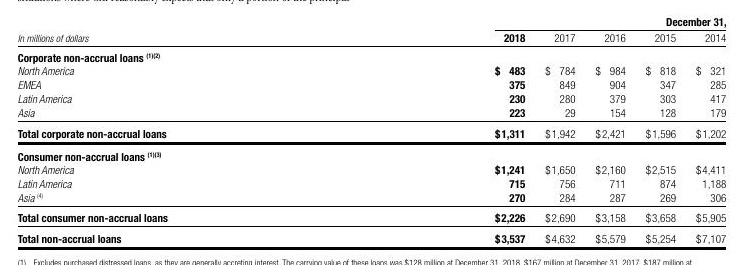table: (0, 0, 745, 265)
